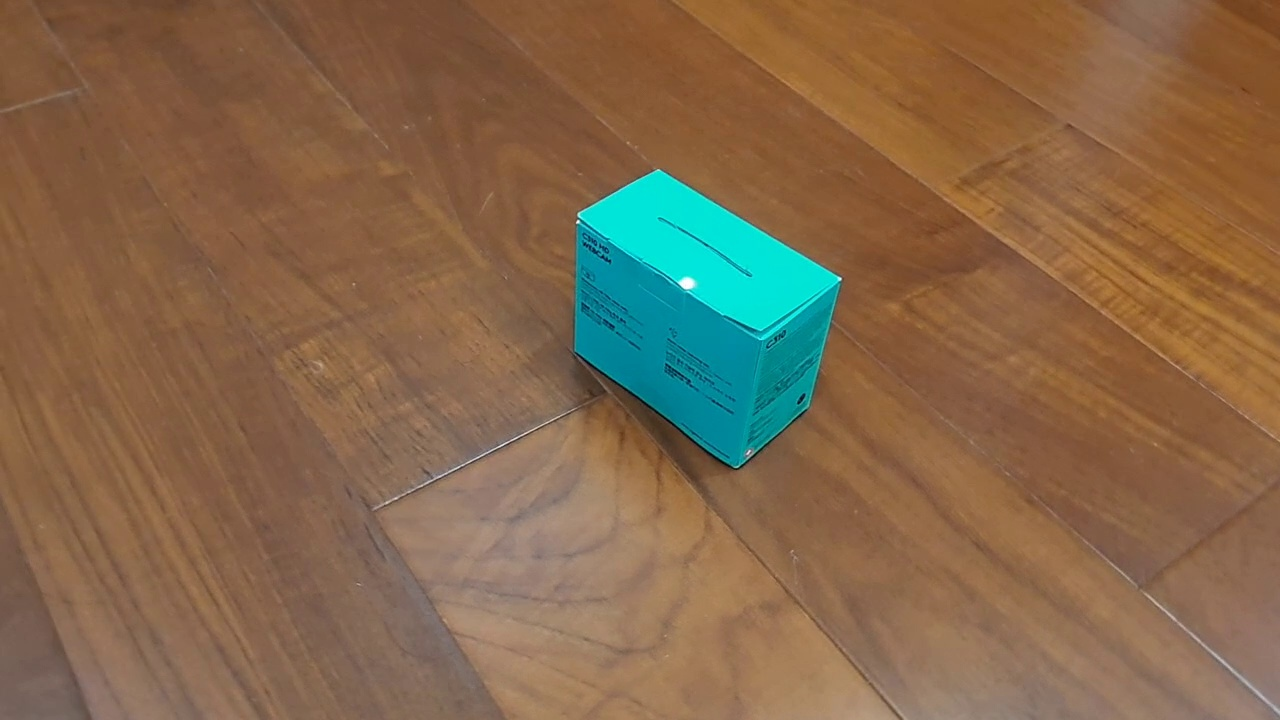webcam: (571, 166, 843, 472)
